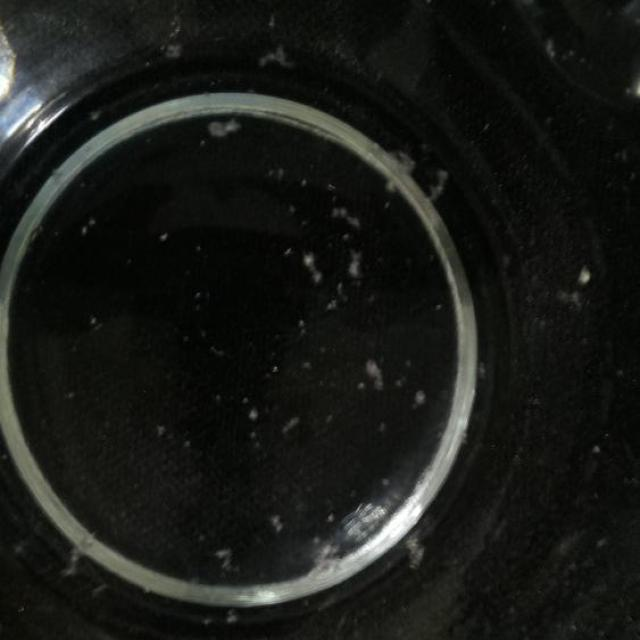fiber: (369, 141, 413, 190), (64, 530, 95, 578), (259, 40, 296, 71), (298, 246, 324, 290), (363, 351, 386, 394), (334, 202, 364, 234), (404, 528, 424, 574), (205, 114, 244, 136), (216, 543, 237, 575), (541, 38, 565, 66), (264, 155, 287, 184), (78, 214, 102, 241), (428, 170, 449, 200), (576, 264, 598, 288), (162, 33, 182, 57), (320, 293, 344, 312), (349, 248, 360, 286), (623, 76, 640, 100), (282, 415, 306, 431), (268, 514, 286, 533), (590, 442, 607, 458), (414, 383, 424, 410), (157, 420, 170, 440), (269, 358, 282, 374), (323, 510, 338, 522), (156, 228, 168, 241), (248, 404, 257, 420)
